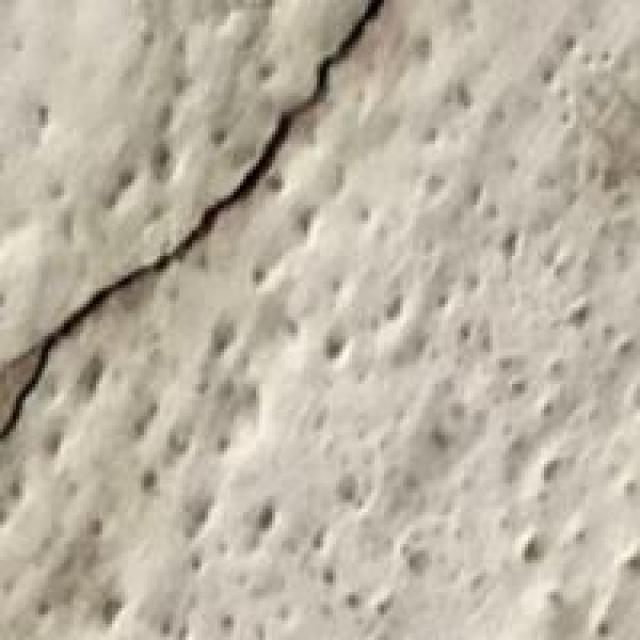crack: (0, 0, 397, 458)
